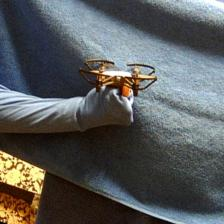drone: (80, 58, 158, 96)
